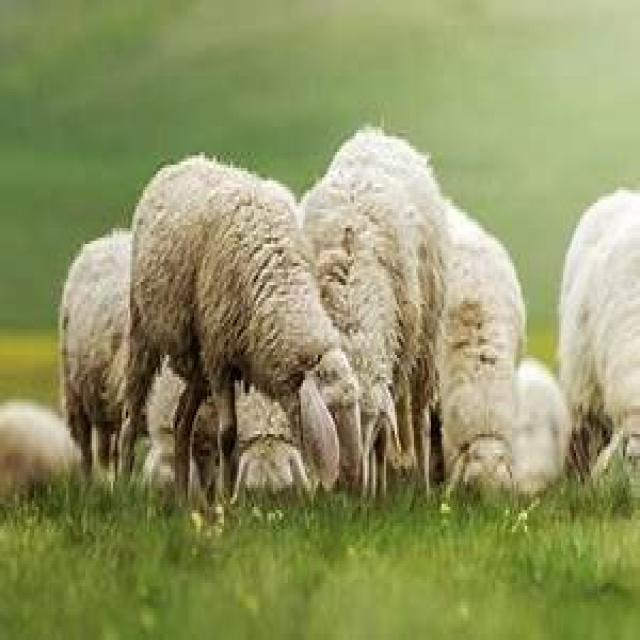sheep: (117, 149, 363, 516), (294, 124, 448, 504), (58, 225, 170, 475), (555, 184, 638, 491), (0, 396, 83, 507)
